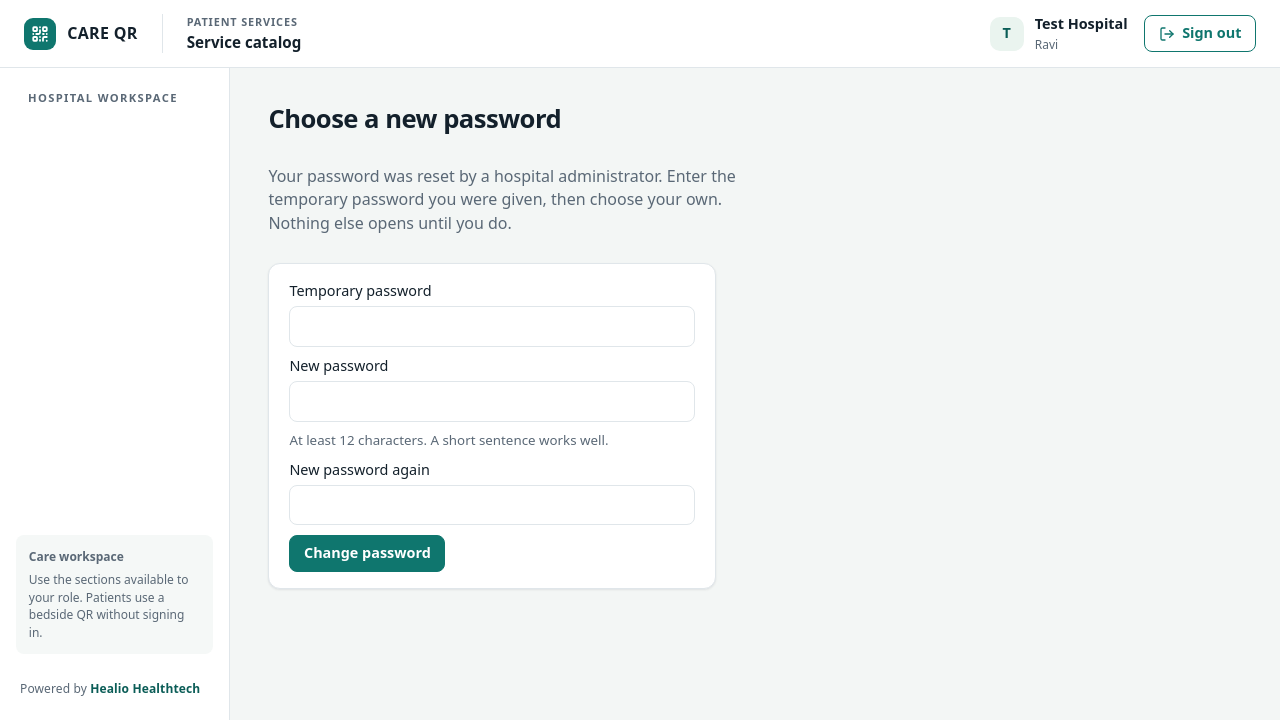
Test: After an administrator’s reset › opens nothing until the person chooses a new password
Expected: the heading "Choose a new password" is shown, [268,101,561,136]
Expected: the text "Catalog content" is not shown
Type "Temporary passphrase 1" into the password field labelled "Temporary password" at (492, 326), box [289,306,695,347]
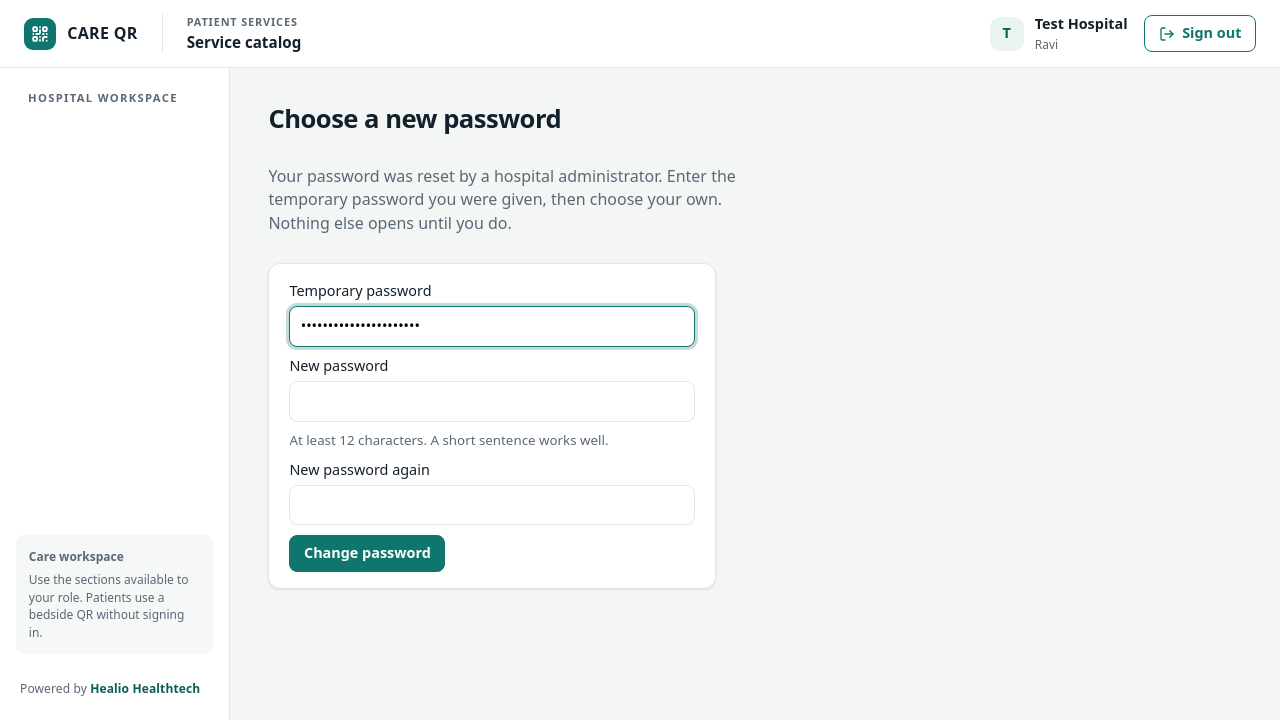
Type "My own passphrase 22" into the password field labelled "New password" at (492, 401), box [289,381,695,422]
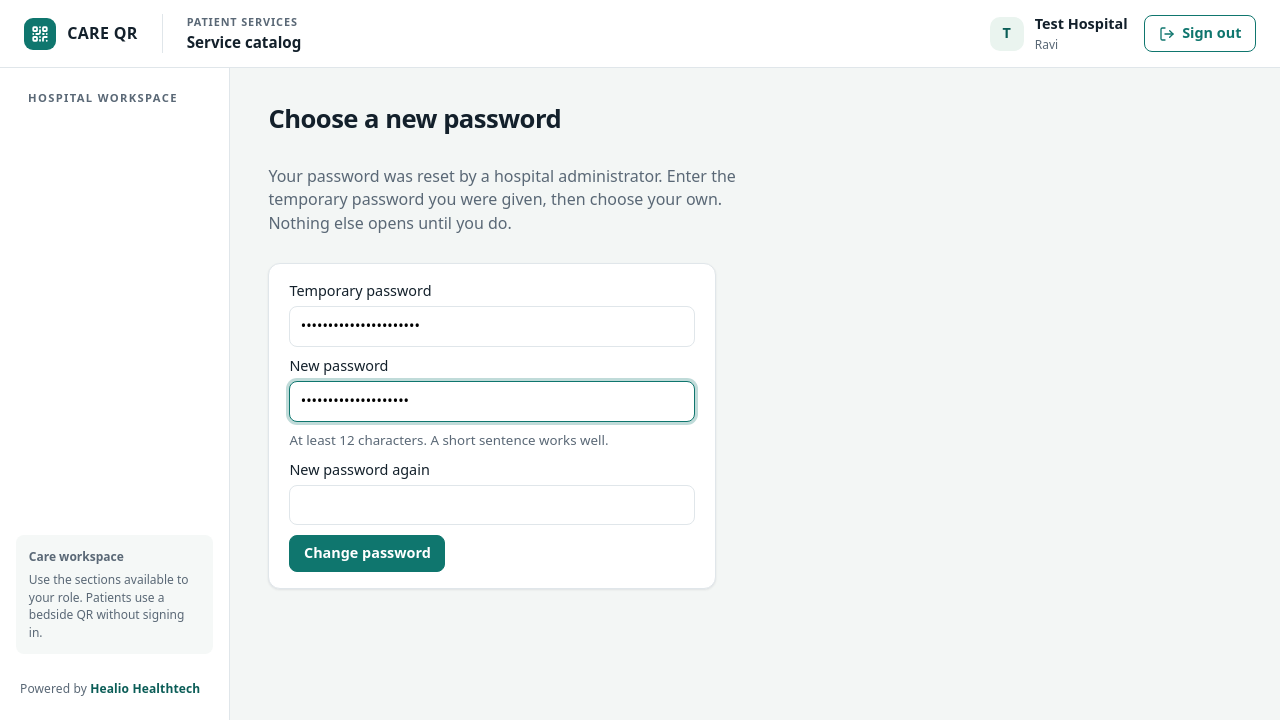
Type "My own passphrase 22" into the password field labelled "New password again" at (492, 505), box [289,485,695,525]
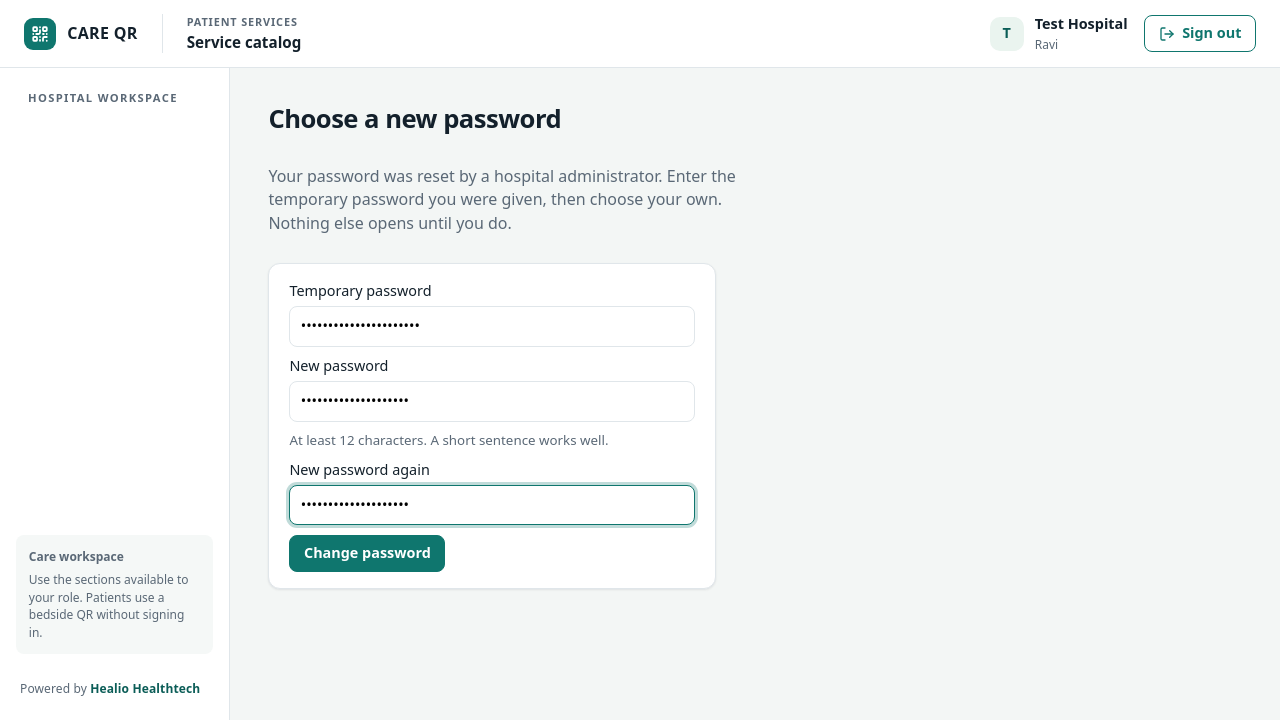
Click the button "Change password" at (367, 554), box [289,535,445,572]
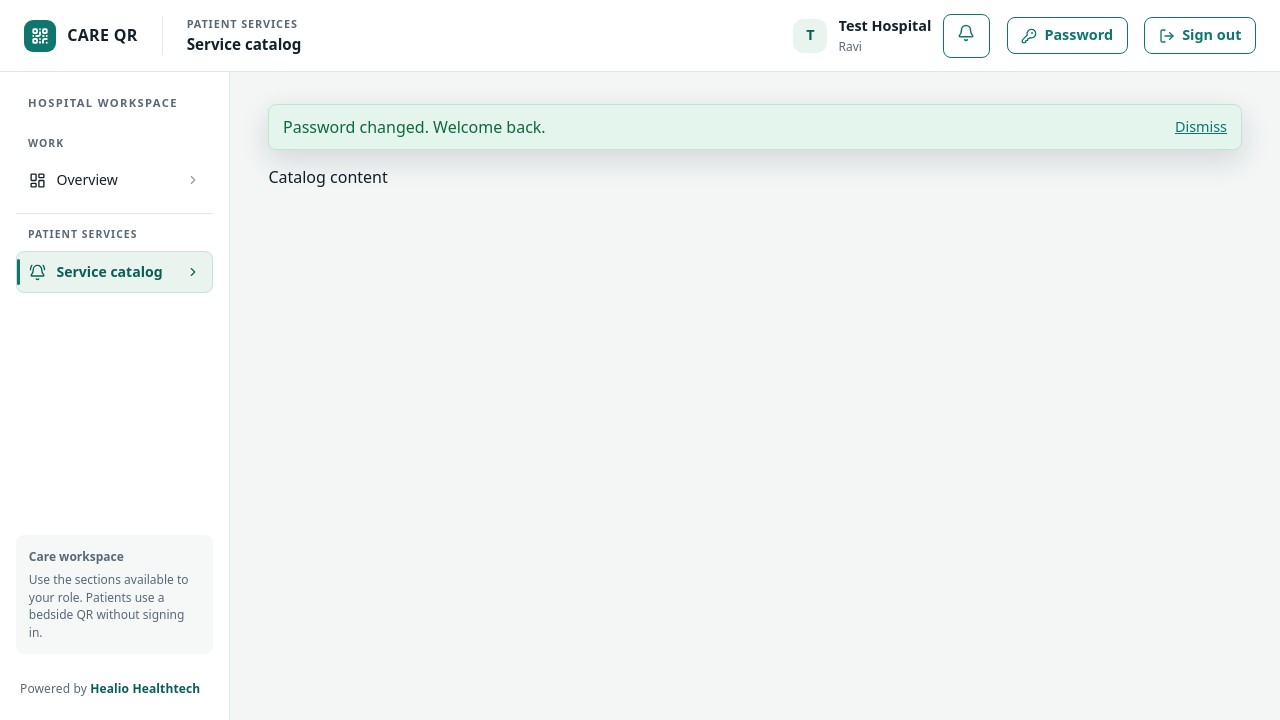
Expected: the text "Catalog content" is shown, [268,166,388,188]
